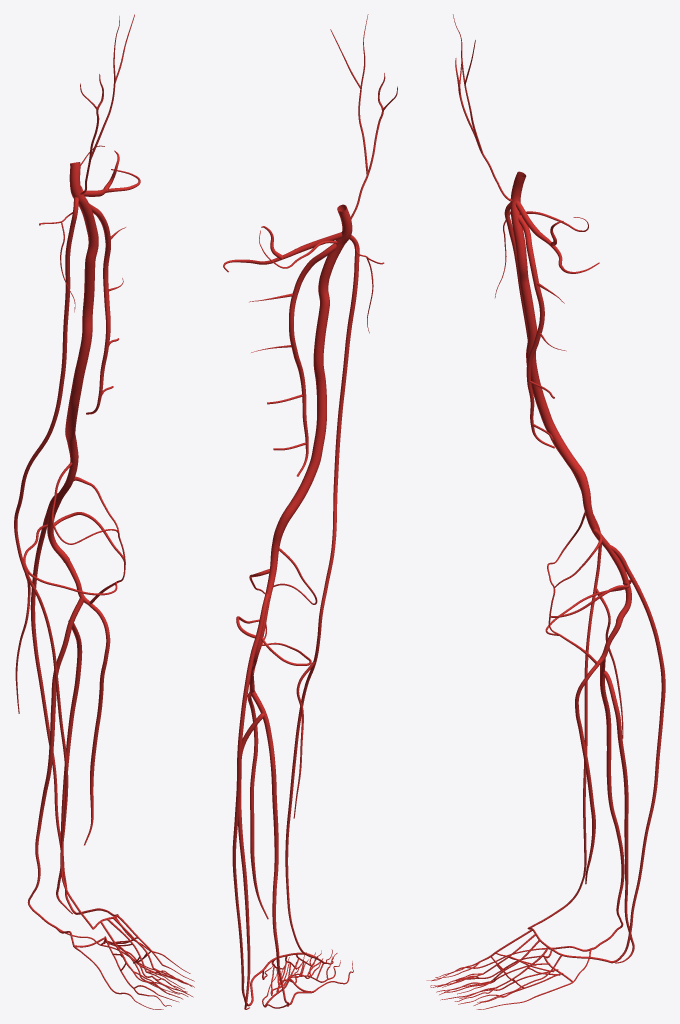
File: circulatorio-femoral-vein-l.glb
3 views of the same model, side by side, from view 1: azimuth 30°, elevation 25°; view 2: azimuth 150°, elevation 25°; view 3: azimuth 270°, elevation 25° (orthographic). The views are drawn at different scales.
Parts seen in each view (by area): view 1: Great saphenous vein.l, Femoral vein.l, Small saphenous vein.l, Posterior tibial veins.l, Genicular veins.l, Anterior tibial veins.l, Deep femoral vein.l, Fibular veins.l, Popliteal vein.l, Superficial epigastric vein.l, Dorsal metatarsal veins.l, Plantar digital veins.l (+2 smaller); view 2: Great saphenous vein.l, Femoral vein.l, Small saphenous vein.l, Posterior tibial veins.l, Deep femoral vein.l, Fibular veins.l, Anterior tibial veins.l, Popliteal vein.l, Genicular veins.l, Superficial epigastric vein.l, Lateral circumflex femoral veins.l; view 3: Femoral vein.l, Great saphenous vein.l, Small saphenous vein.l, Posterior tibial veins.l, Fibular veins.l, Deep femoral vein.l, Anterior tibial veins.l, Genicular veins.l, Popliteal vein.l, Plantar digital veins.l, Superficial epigastric vein.l, Dorsal metatarsal veins.l (+1 smaller).
Boxes of the visible parts, x1=… form: Great saphenous vein.l: x1=14, y1=197, x2=93, y2=929; Femoral vein.l: x1=65, y1=162, x2=98, y2=436; Small saphenous vein.l: x1=30, y1=493, x2=95, y2=914; Posterior tibial veins.l: x1=27, y1=597, x2=83, y2=928; Genicular veins.l: x1=23, y1=462, x2=125, y2=604; Anterior tibial veins.l: x1=65, y1=560, x2=110, y2=845; Deep femoral vein.l: x1=86, y1=203, x2=110, y2=414; Fibular veins.l: x1=56, y1=620, x2=82, y2=914; Popliteal vein.l: x1=47, y1=433, x2=78, y2=562; Superficial epigastric vein.l: x1=80, y1=14, x2=134, y2=194; Dorsal metatarsal veins.l: x1=100, y1=916, x2=167, y2=971; Plantar digital veins.l: x1=102, y1=945, x2=194, y2=1009; Great saphenous vein.l: x1=285, y1=235, x2=359, y2=958; Femoral vein.l: x1=286, y1=204, x2=352, y2=512; Small saphenous vein.l: x1=232, y1=593, x2=269, y2=1006; Posterior tibial veins.l: x1=250, y1=690, x2=289, y2=1006; Deep femoral vein.l: x1=289, y1=243, x2=336, y2=476; Fibular veins.l: x1=236, y1=713, x2=264, y2=1009; Anterior tibial veins.l: x1=247, y1=669, x2=268, y2=919; Popliteal vein.l: x1=252, y1=508, x2=294, y2=669; Genicular veins.l: x1=236, y1=548, x2=317, y2=689; Superficial epigastric vein.l: x1=330, y1=14, x2=397, y2=219; Lateral circumflex femoral veins.l: x1=223, y1=226, x2=342, y2=272; Femoral vein.l: x1=510, y1=171, x2=580, y2=472; Great saphenous vein.l: x1=504, y1=202, x2=623, y2=927; Small saphenous vein.l: x1=591, y1=545, x2=665, y2=963; Posterior tibial veins.l: x1=592, y1=658, x2=624, y2=949; Fibular veins.l: x1=603, y1=670, x2=634, y2=963; Deep femoral vein.l: x1=518, y1=215, x2=554, y2=448; Anterior tibial veins.l: x1=575, y1=622, x2=621, y2=884; Genicular veins.l: x1=545, y1=511, x2=631, y2=664; Popliteal vein.l: x1=573, y1=467, x2=631, y2=622; Plantar digital veins.l: x1=426, y1=962, x2=573, y2=1009; Superficial epigastric vein.l: x1=453, y1=14, x2=512, y2=201; Dorsal metatarsal veins.l: x1=479, y1=929, x2=561, y2=993.
Bounding box in the file's own units: 0.1471 × 1.06 × 0.2404.
